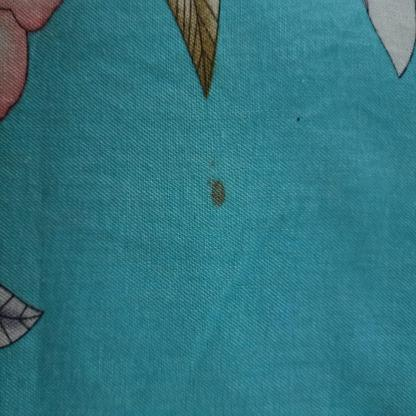spot: (210, 171, 226, 218), (294, 109, 305, 135)
